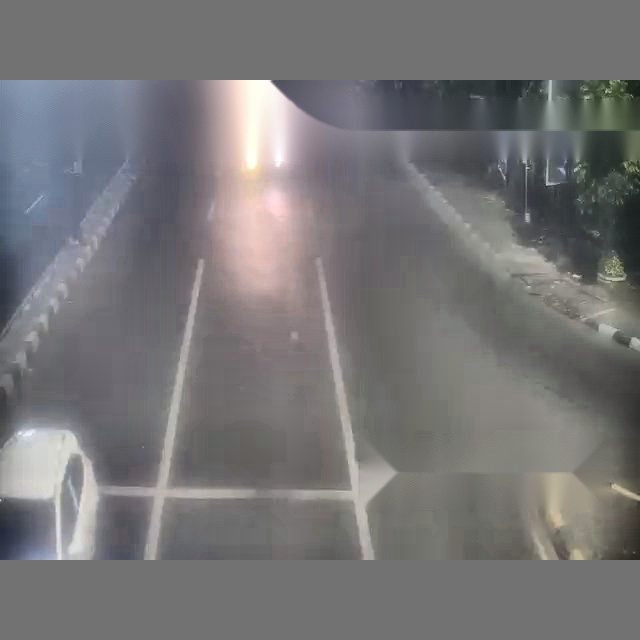Mobil: (0, 428, 98, 557)
